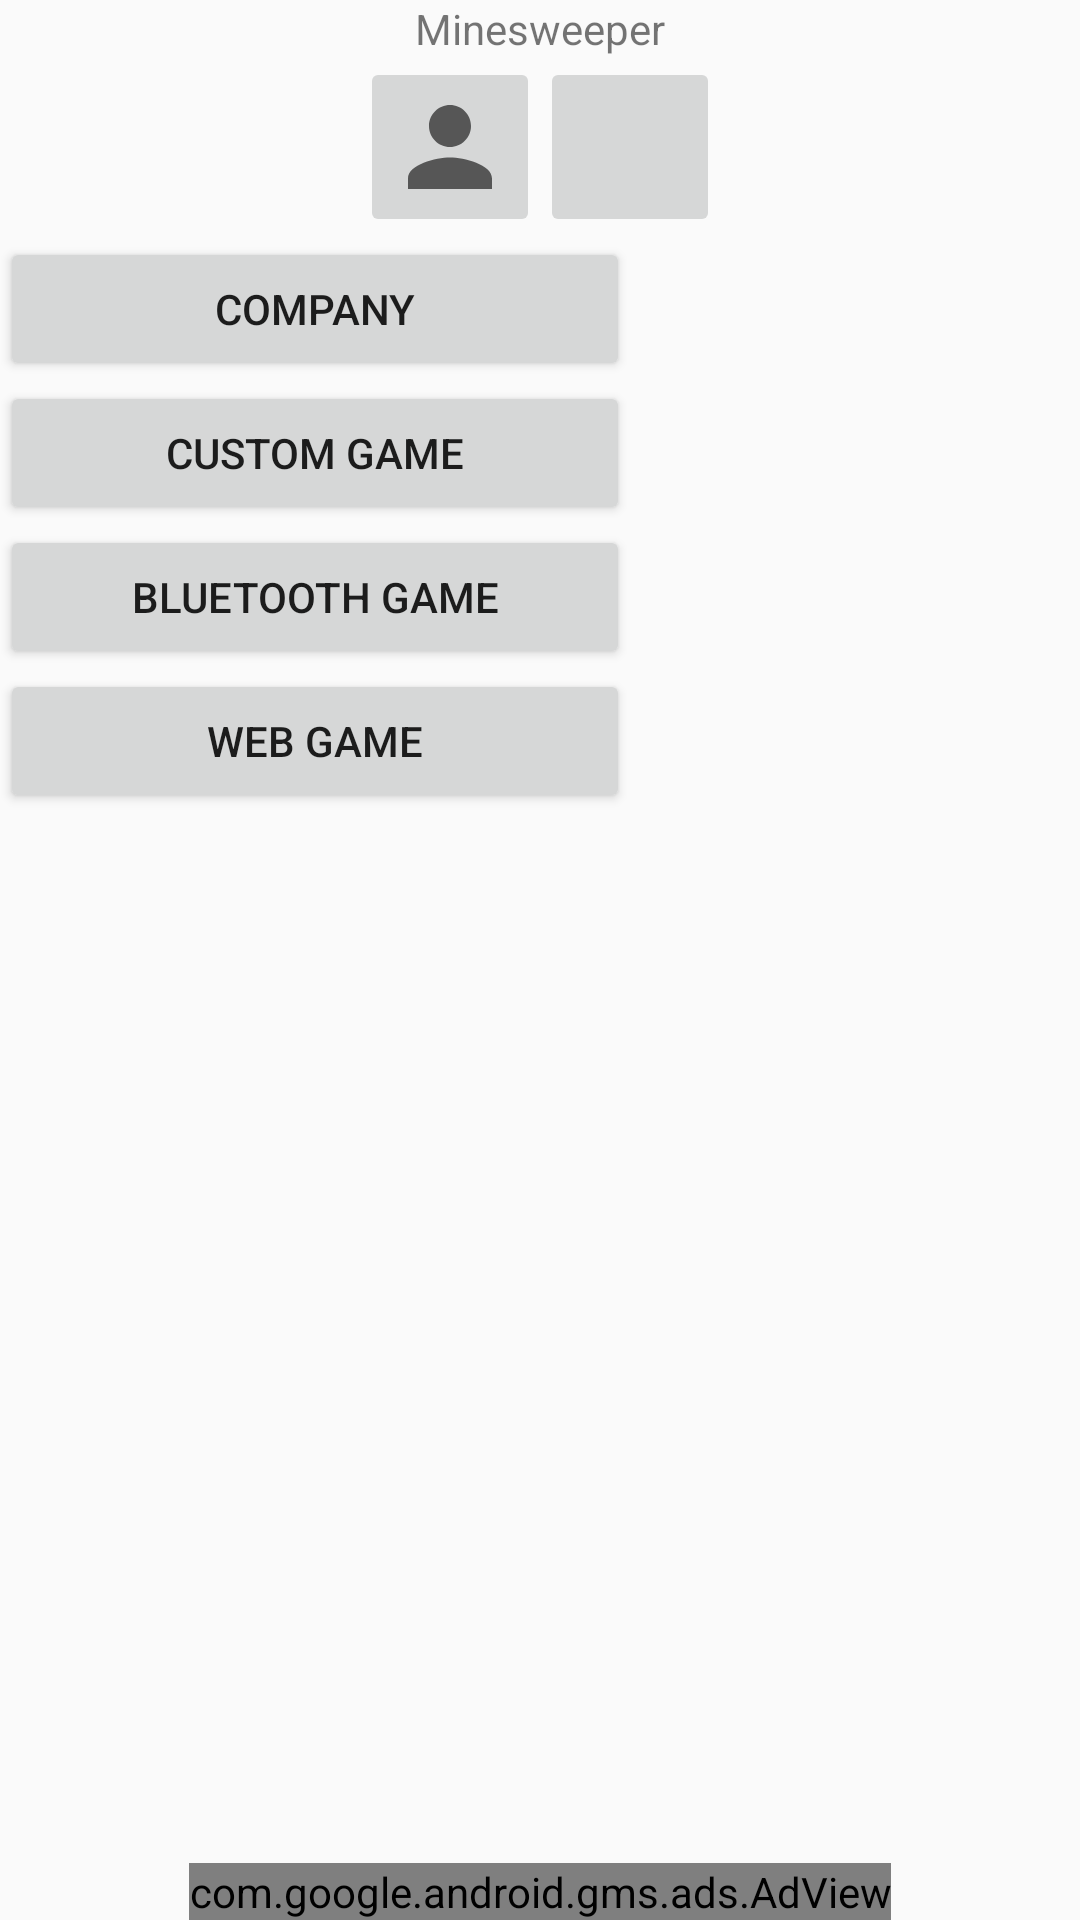

Icon bounding boxes for this 1080×1920 phone screenshot, format box=[x1, y1, x2, y2]:
PROFILE: box=[372, 75, 528, 219]
